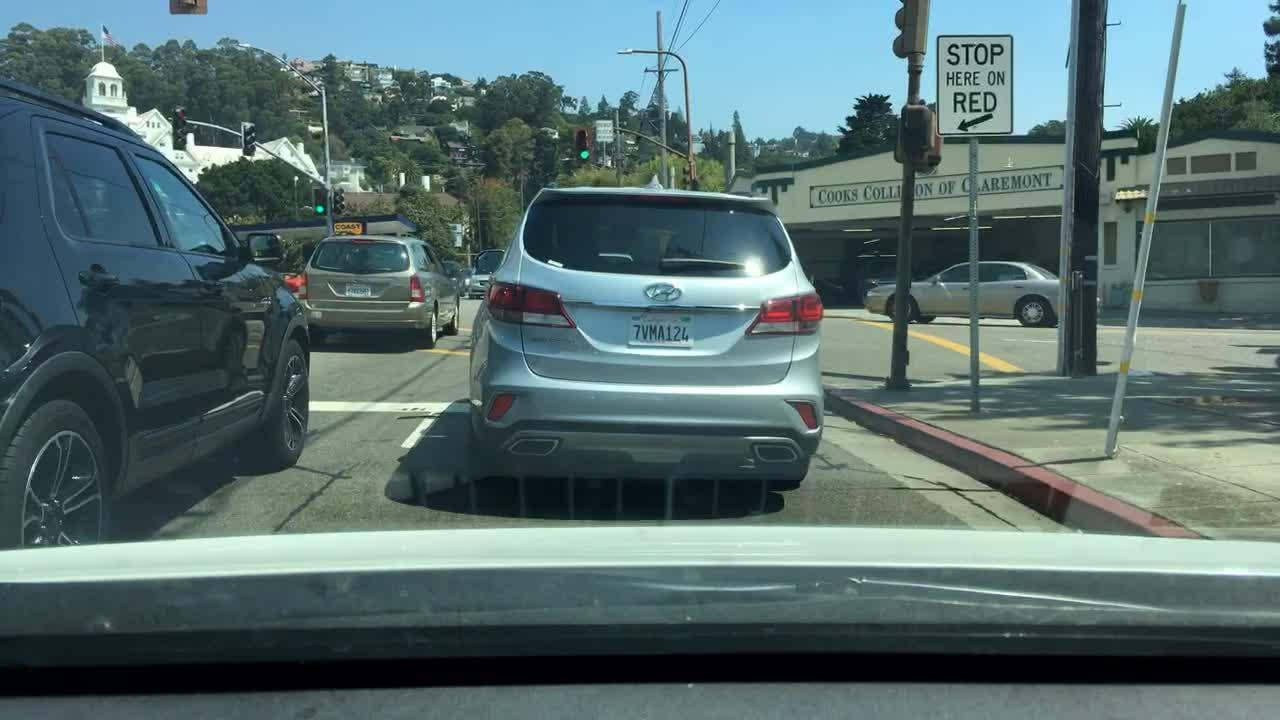Hyundai: (636, 276, 696, 307)
